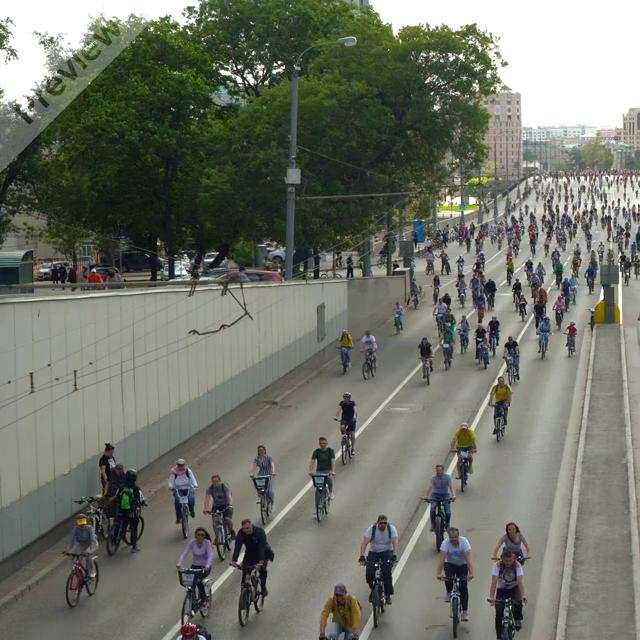bicycle: (358, 557, 396, 628), (228, 561, 268, 626), (436, 574, 473, 639), (175, 564, 212, 628), (60, 549, 99, 608), (105, 502, 147, 556), (420, 496, 456, 552), (486, 596, 527, 639), (202, 506, 233, 561), (73, 494, 109, 541), (169, 485, 198, 539), (249, 473, 276, 526), (308, 471, 335, 522), (450, 447, 476, 492), (333, 417, 356, 464), (488, 402, 510, 441), (359, 348, 377, 380), (335, 345, 353, 375), (503, 353, 520, 383), (419, 354, 434, 385), (537, 331, 552, 359), (475, 341, 490, 369), (440, 342, 453, 370), (457, 327, 469, 354), (565, 333, 576, 357), (433, 314, 444, 337), (393, 313, 403, 335)
